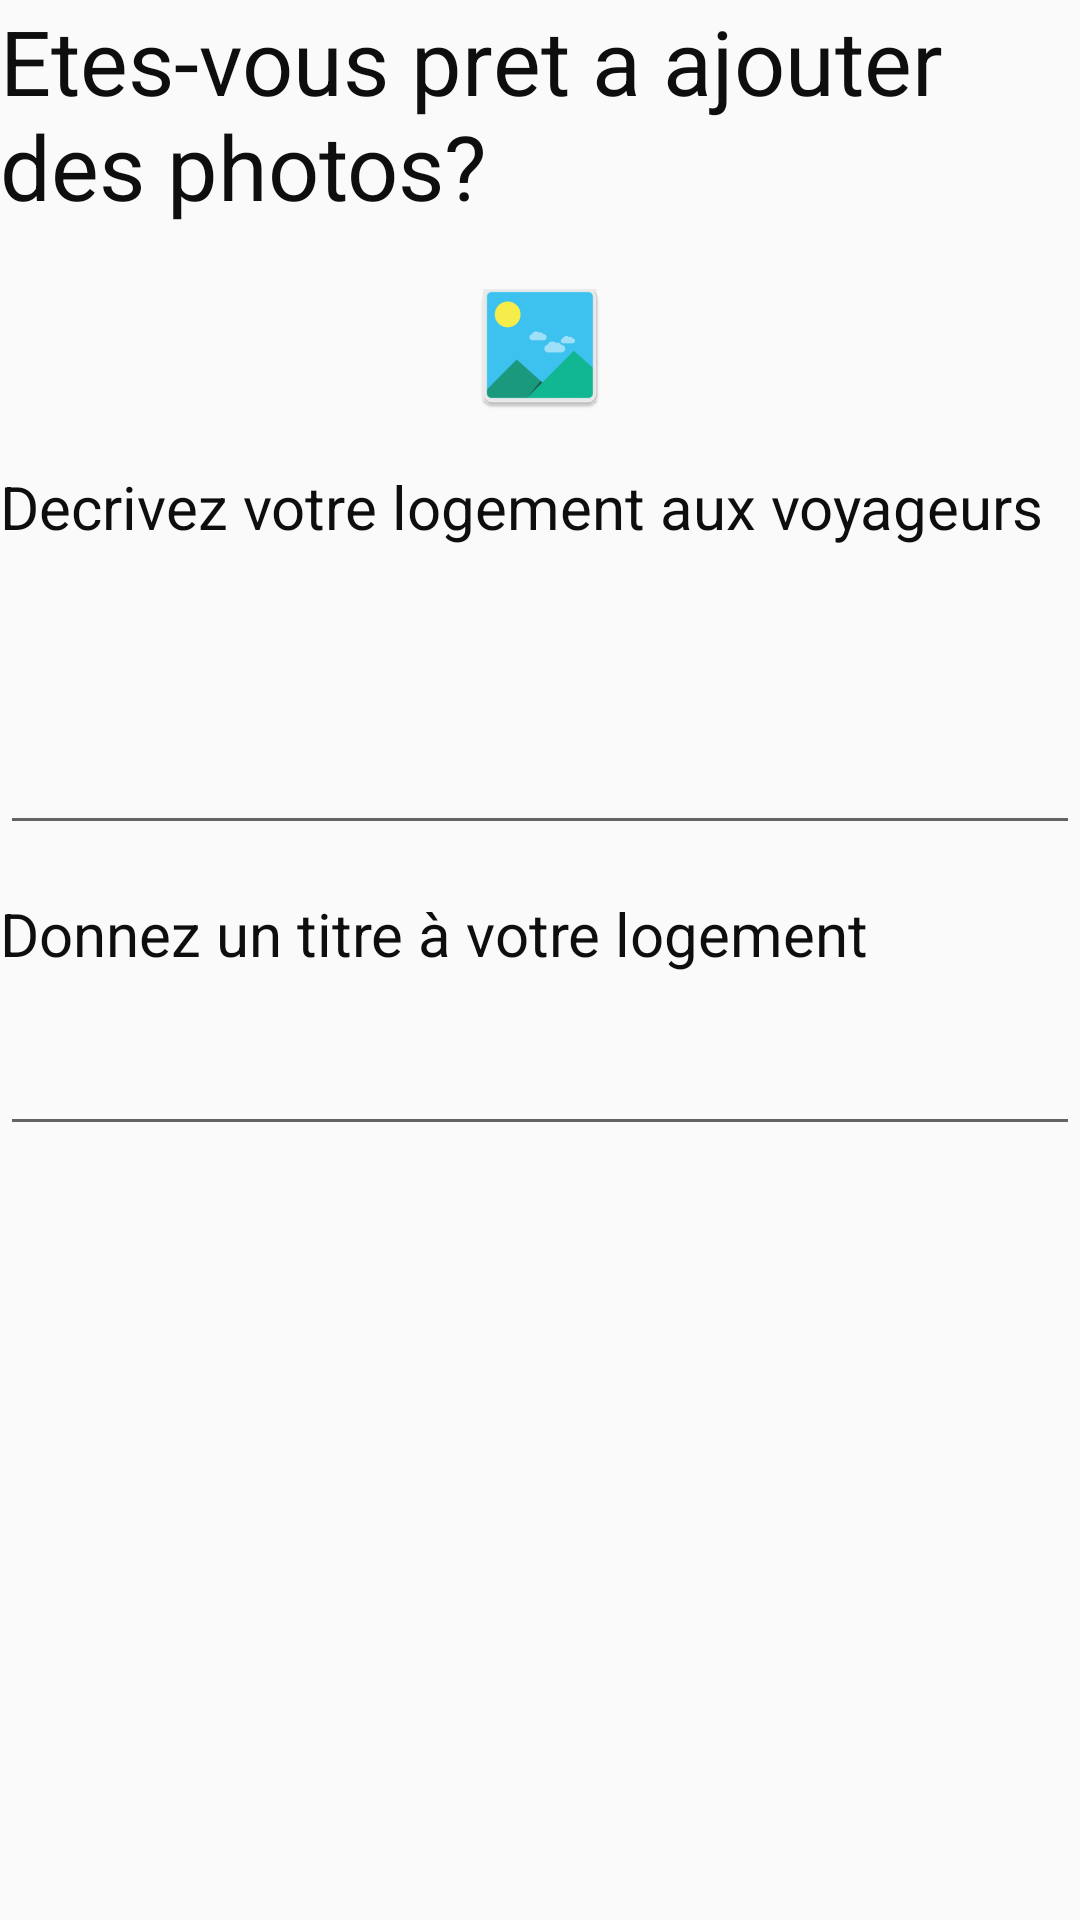

Icon click points for this 1080*1920 phone screenshot, format [x,y]:
gallery: [540,349]
